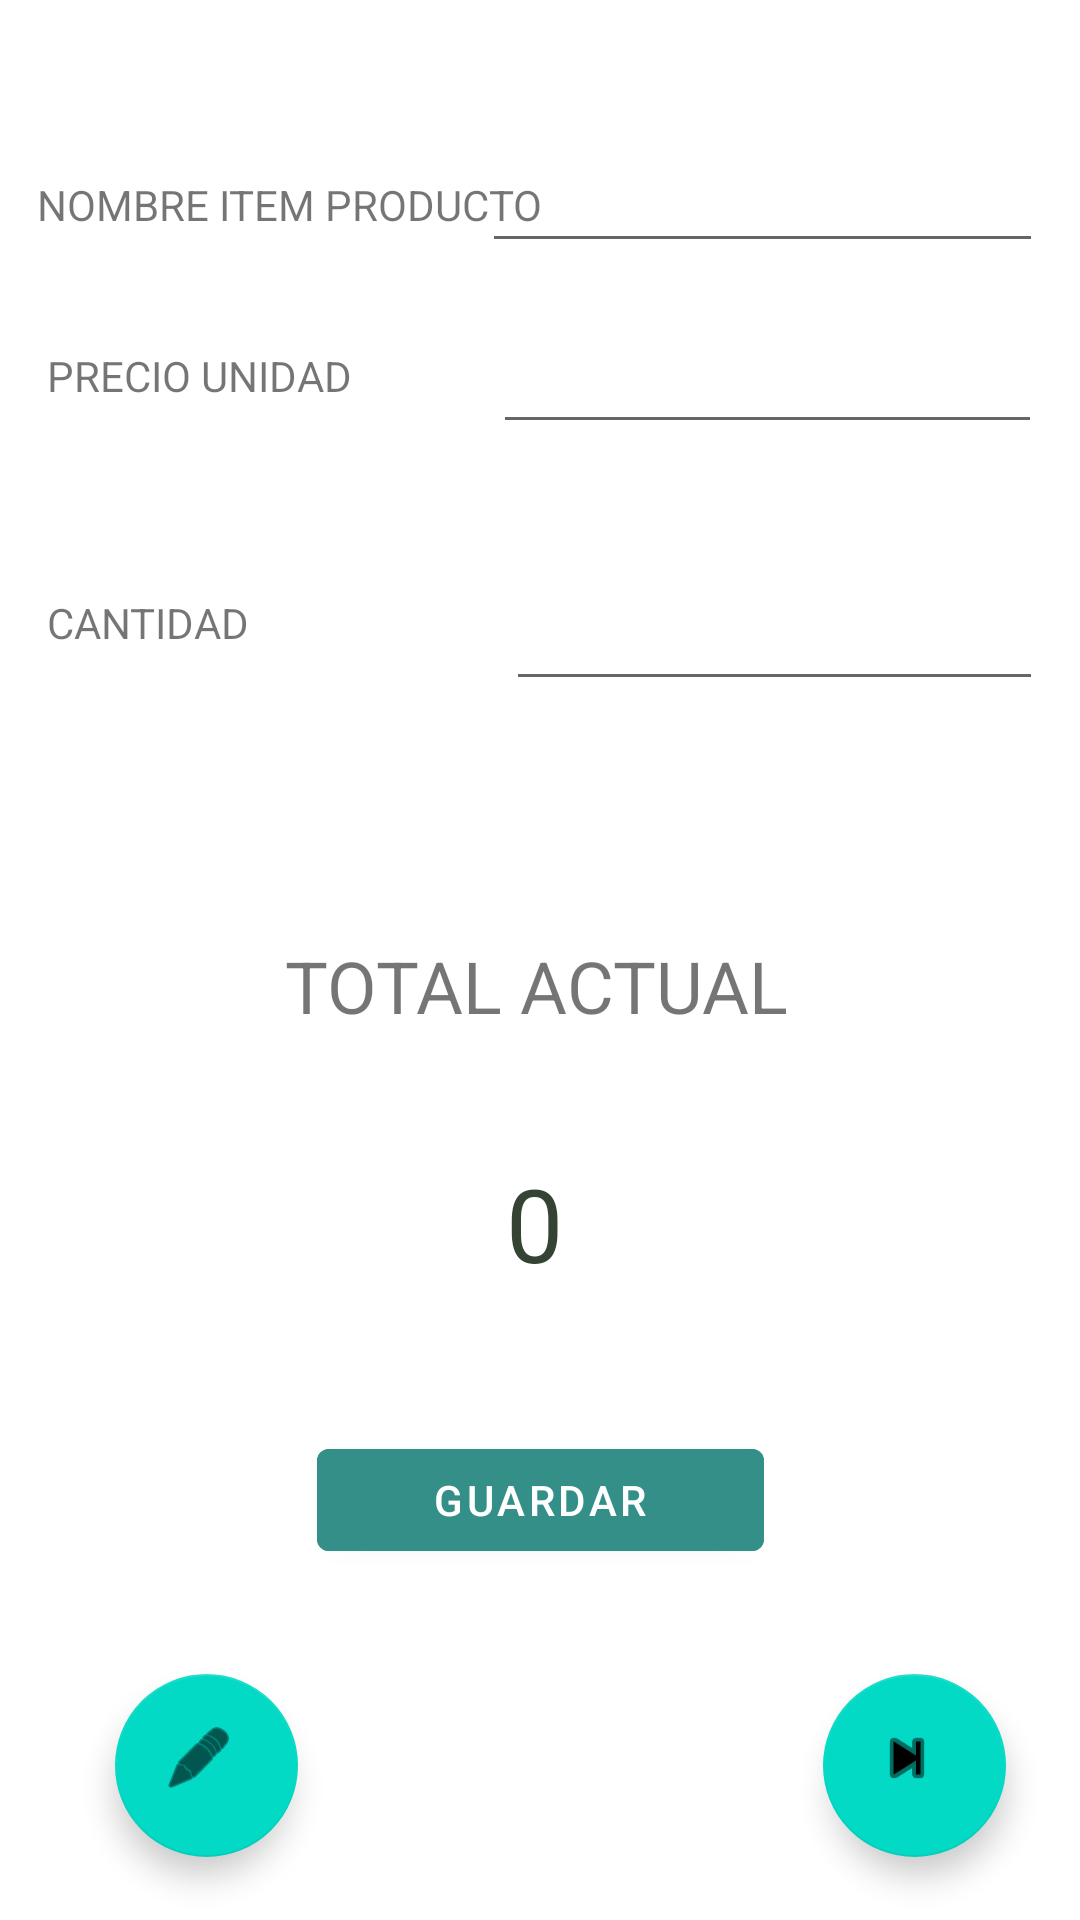

Screen size 1080*1920. Icon name, then its center in pixels as point (x, y):
edit: point (206, 1765)
next: point (914, 1765)
